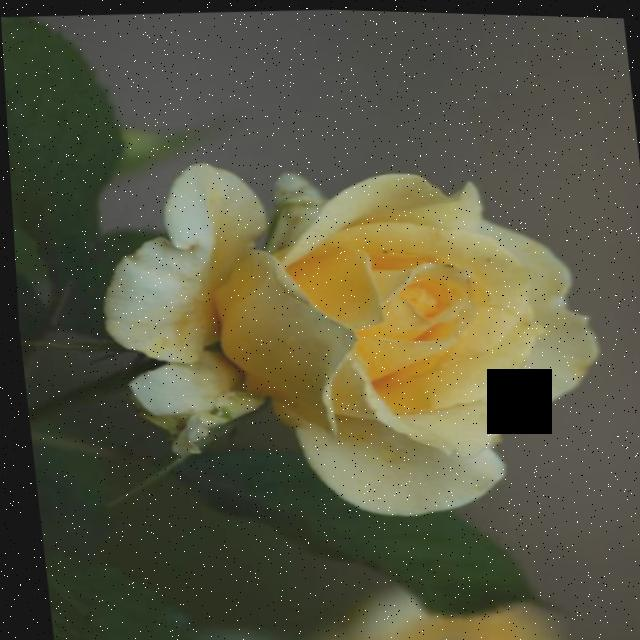rose: (104, 144, 633, 539)
